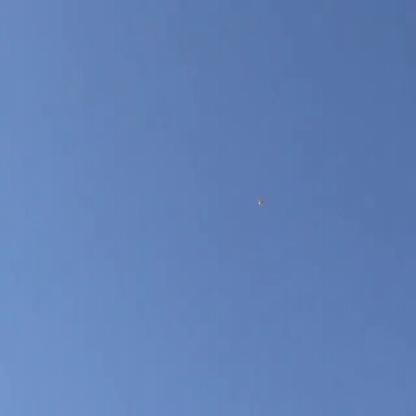CIV_Plane: (256, 198, 267, 208)
